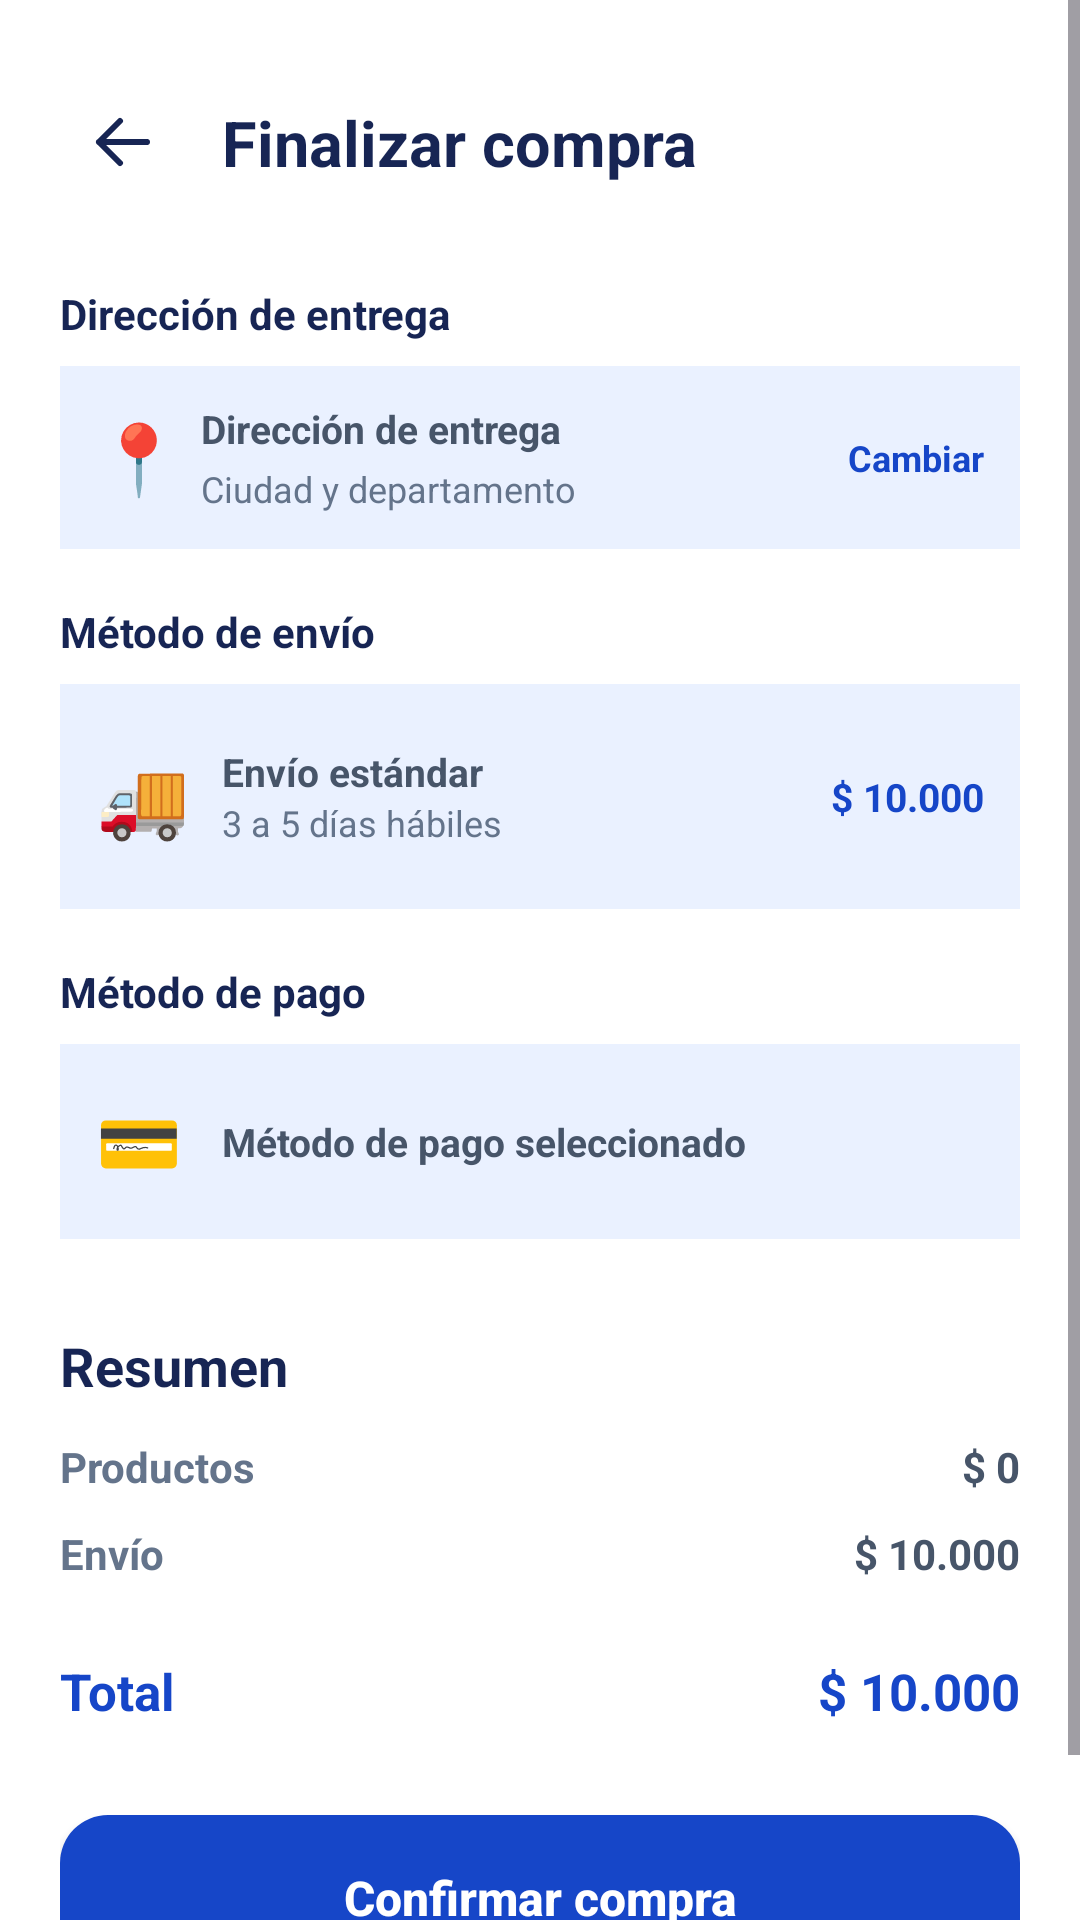

Icon click points for this 1080px x 1920px phone screenshot, format (x,y):
Volver: (123,142)
